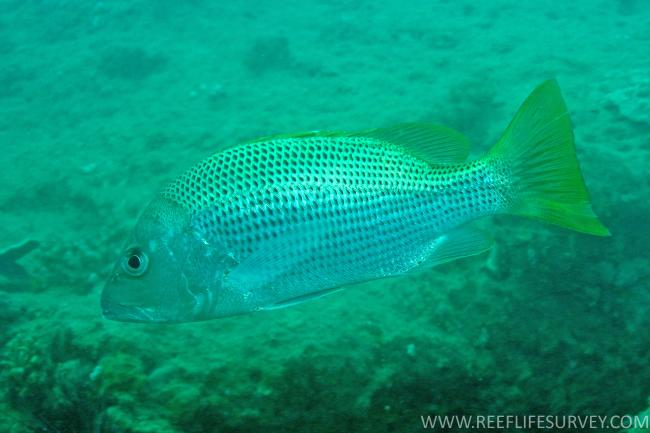fish: (100, 77, 614, 324)
